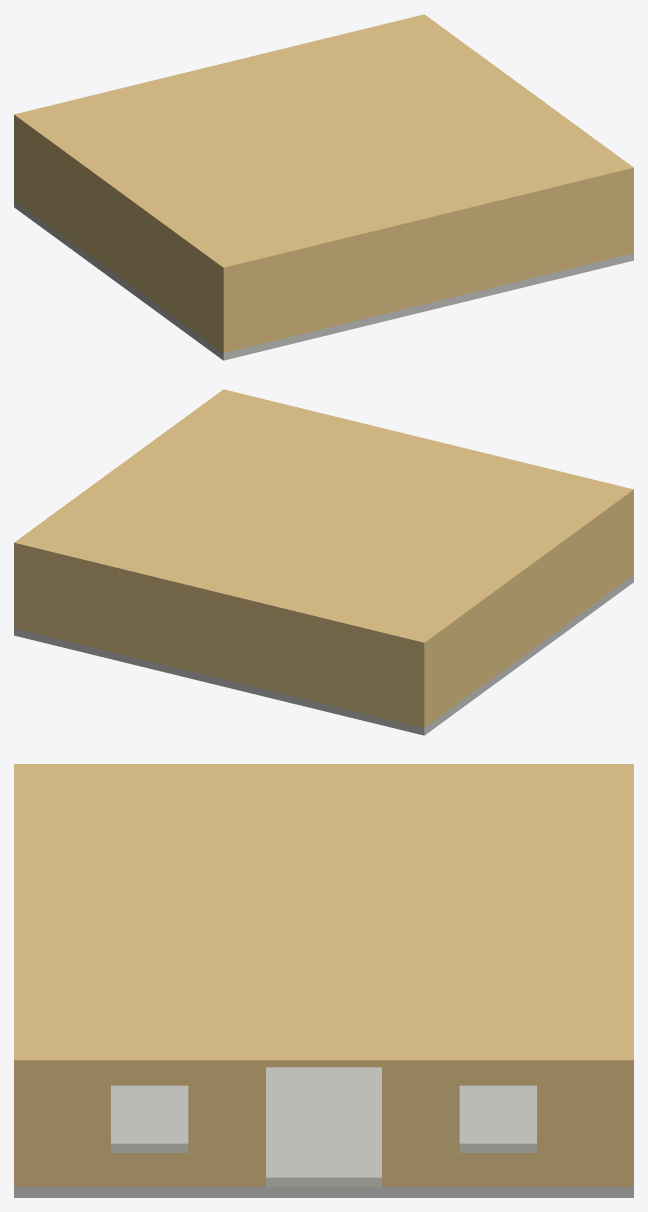
The model's file is Building_Two.fbx.
3 renders of one model, top to bottom at view 1: azimuth 30°, elevation 25°; view 2: azimuth 150°, elevation 25°; view 3: azimuth 270°, elevation 25°, orthographic. The views are drawn at different scales.
Parts seen in each view (by area): view 1: Cube; view 2: Cube; view 3: Cube.
Boxes of the visible parts, x1,y1,x2,y2 form: Cube: (14, 14, 633, 360); Cube: (14, 389, 633, 735); Cube: (14, 764, 633, 1197).
Bounding box in the file's own units: 1332 × 288 × 1178.
